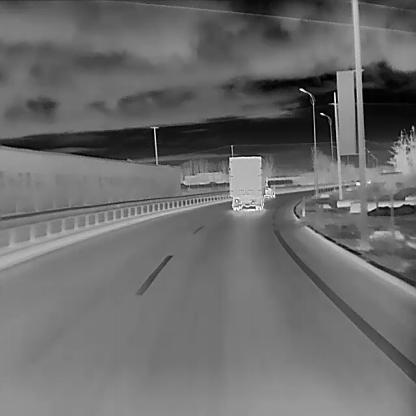car: (264, 186, 275, 198), (355, 178, 360, 184)
truck: (228, 156, 268, 210)
